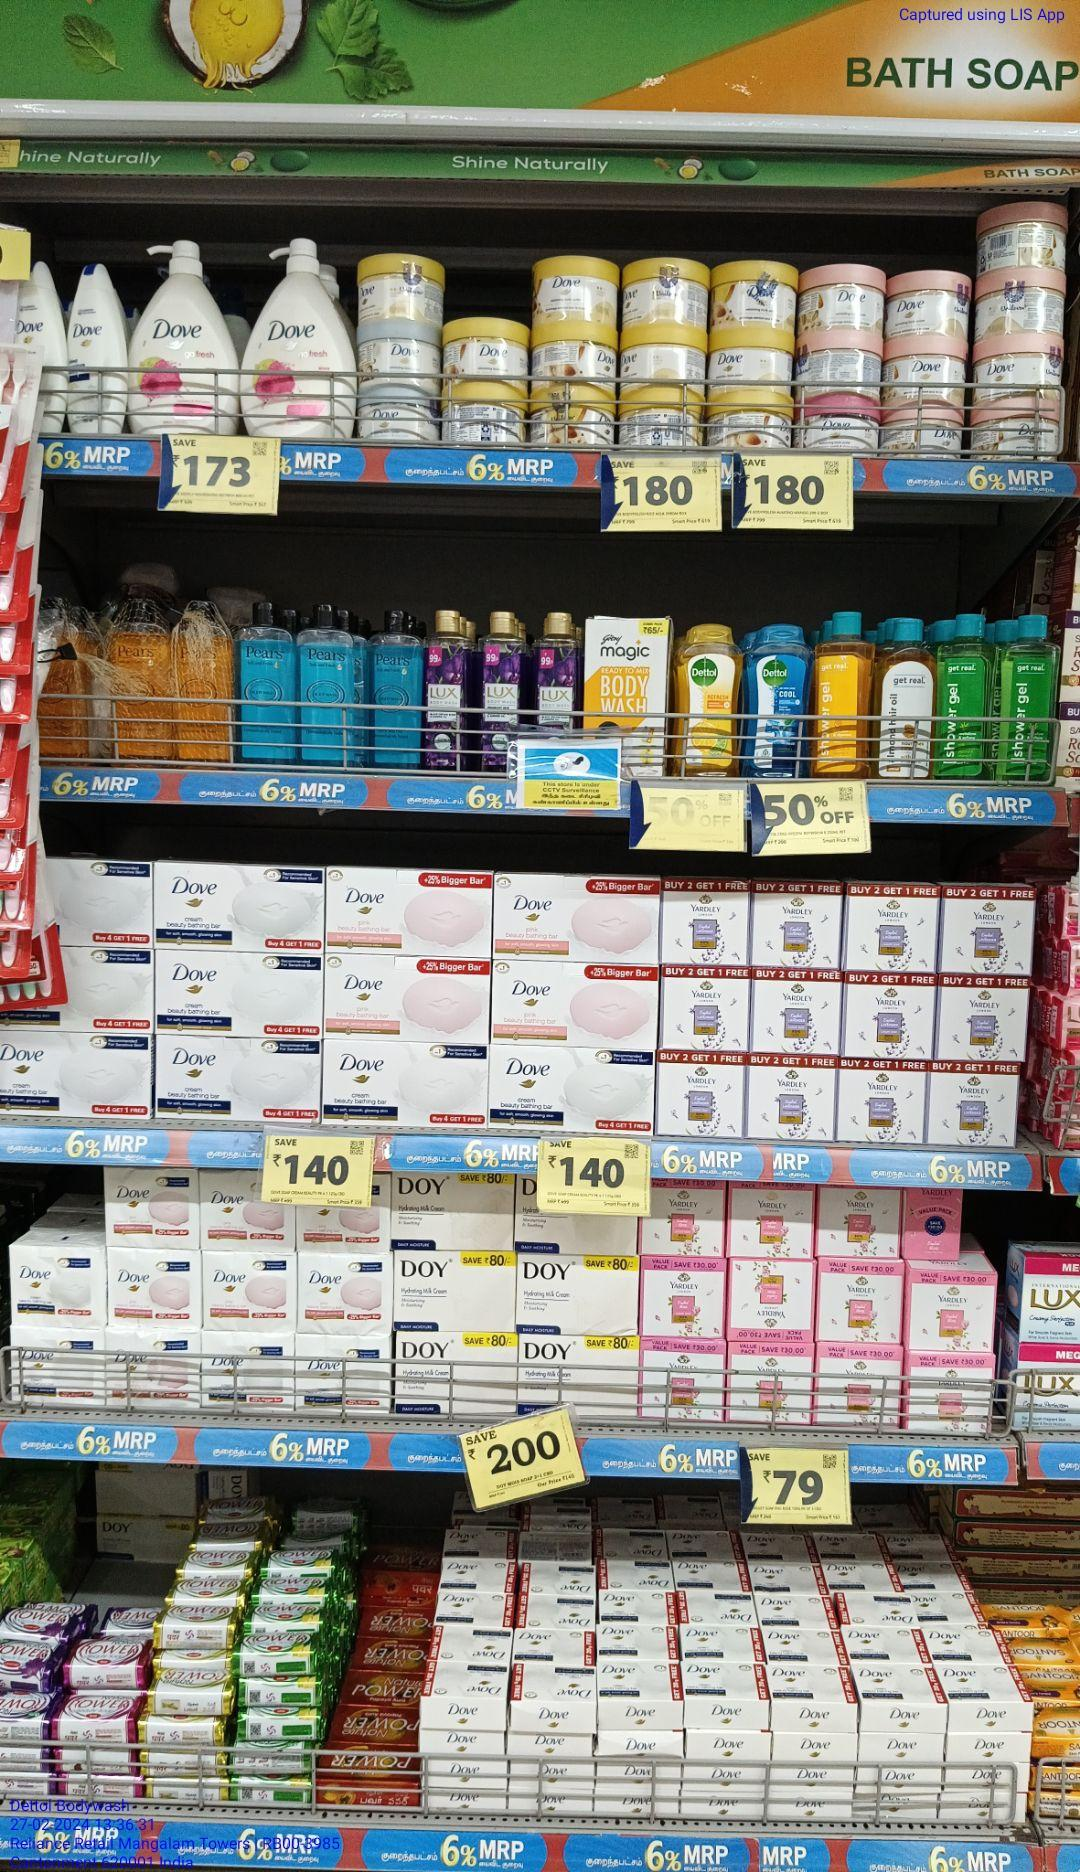Dettol_Bodywash_Cool: (744, 618, 807, 778)
Dettol_Bodywash_Refresh: (678, 621, 738, 777)
Dove_Deep_Moisture_Body_Wash_250ML: (69, 261, 123, 437)
Lux_Black_Orchid_Scent_and_Juniper_Oil_Body_Wash_245ML: (424, 607, 472, 774), (478, 609, 525, 779), (530, 607, 580, 729)
Pears_Pure_Glycerin_and_Mint_Extracts_Body_Wash_250ML: (302, 597, 364, 769), (238, 598, 298, 766), (368, 604, 422, 771)
